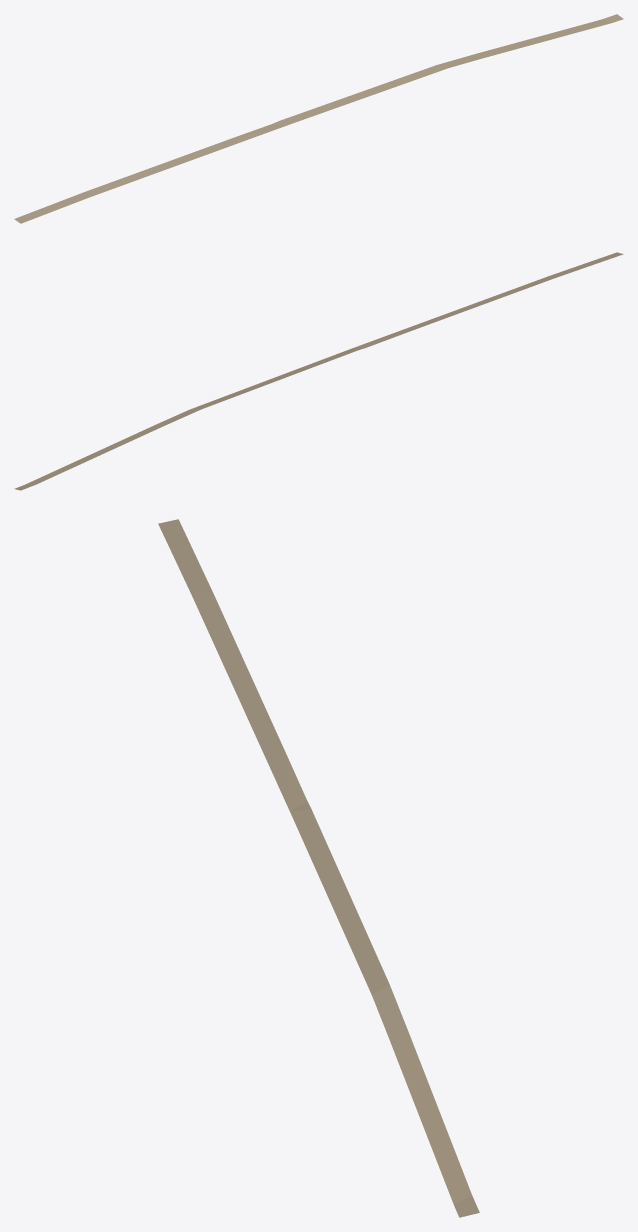
Rendered from farm_14_4_track.glb.
The picture shows the model from 3 angles, top to bottom: view 1: azimuth 30°, elevation 25°; view 2: azimuth 210°, elevation 25°; view 3: azimuth 270°, elevation 25°; orthographic projection. The views are drawn at different scales.
Visible parts, largest first — view 1: geometry_0; view 2: geometry_0; view 3: geometry_0.
Boxes of the visible parts, x1,y1,x2,y2 form: geometry_0: [14, 14, 623, 223]; geometry_0: [14, 252, 623, 490]; geometry_0: [158, 519, 479, 1217].
Size of the model in its own units: 247 by 6.45 by 50.5.
